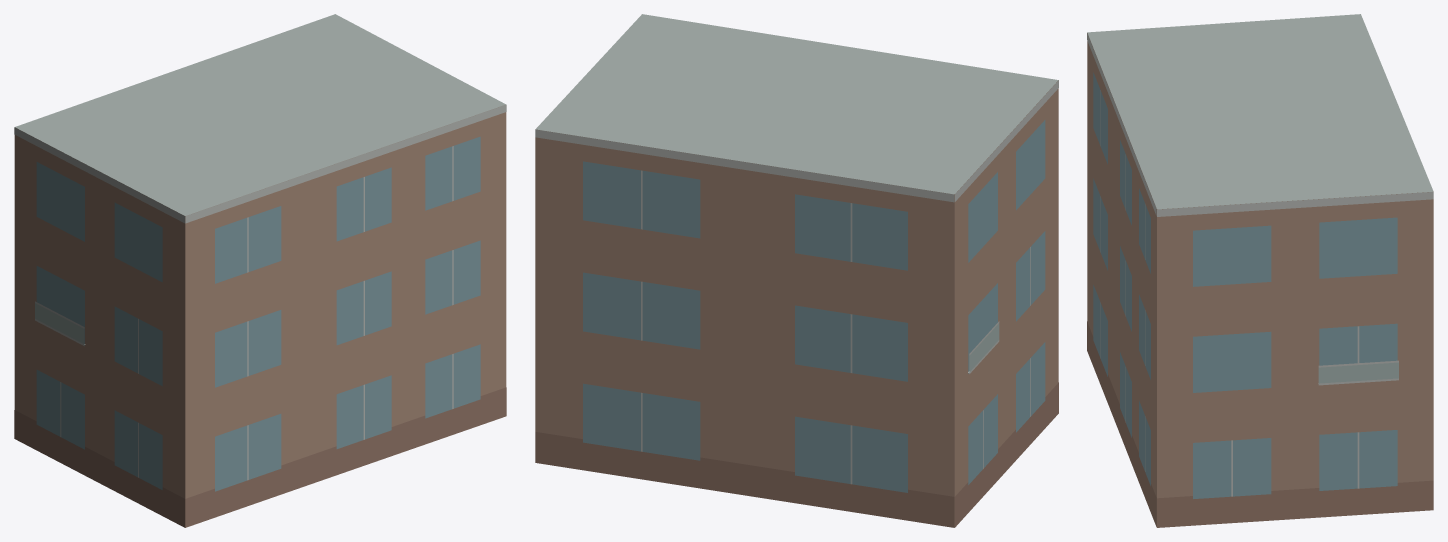
File: survey-upis-32621740.glb
3 views of the same model, side by side, from view 1: azimuth 30°, elevation 25°; view 2: azimuth 150°, elevation 25°; view 3: azimuth 270°, elevation 25° (orthographic). The views are drawn at different scales.
Visible parts, largest first — view 1: survey-upis-32621740.tmp; view 2: survey-upis-32621740.tmp; view 3: survey-upis-32621740.tmp.
Part boxes in pixels (bbox=[...]): survey-upis-32621740.tmp: bbox=[14, 14, 506, 527]; survey-upis-32621740.tmp: bbox=[535, 14, 1058, 527]; survey-upis-32621740.tmp: bbox=[1087, 14, 1433, 527].
Size of the model in its own units: 13.43 by 10.2 by 10.07.
